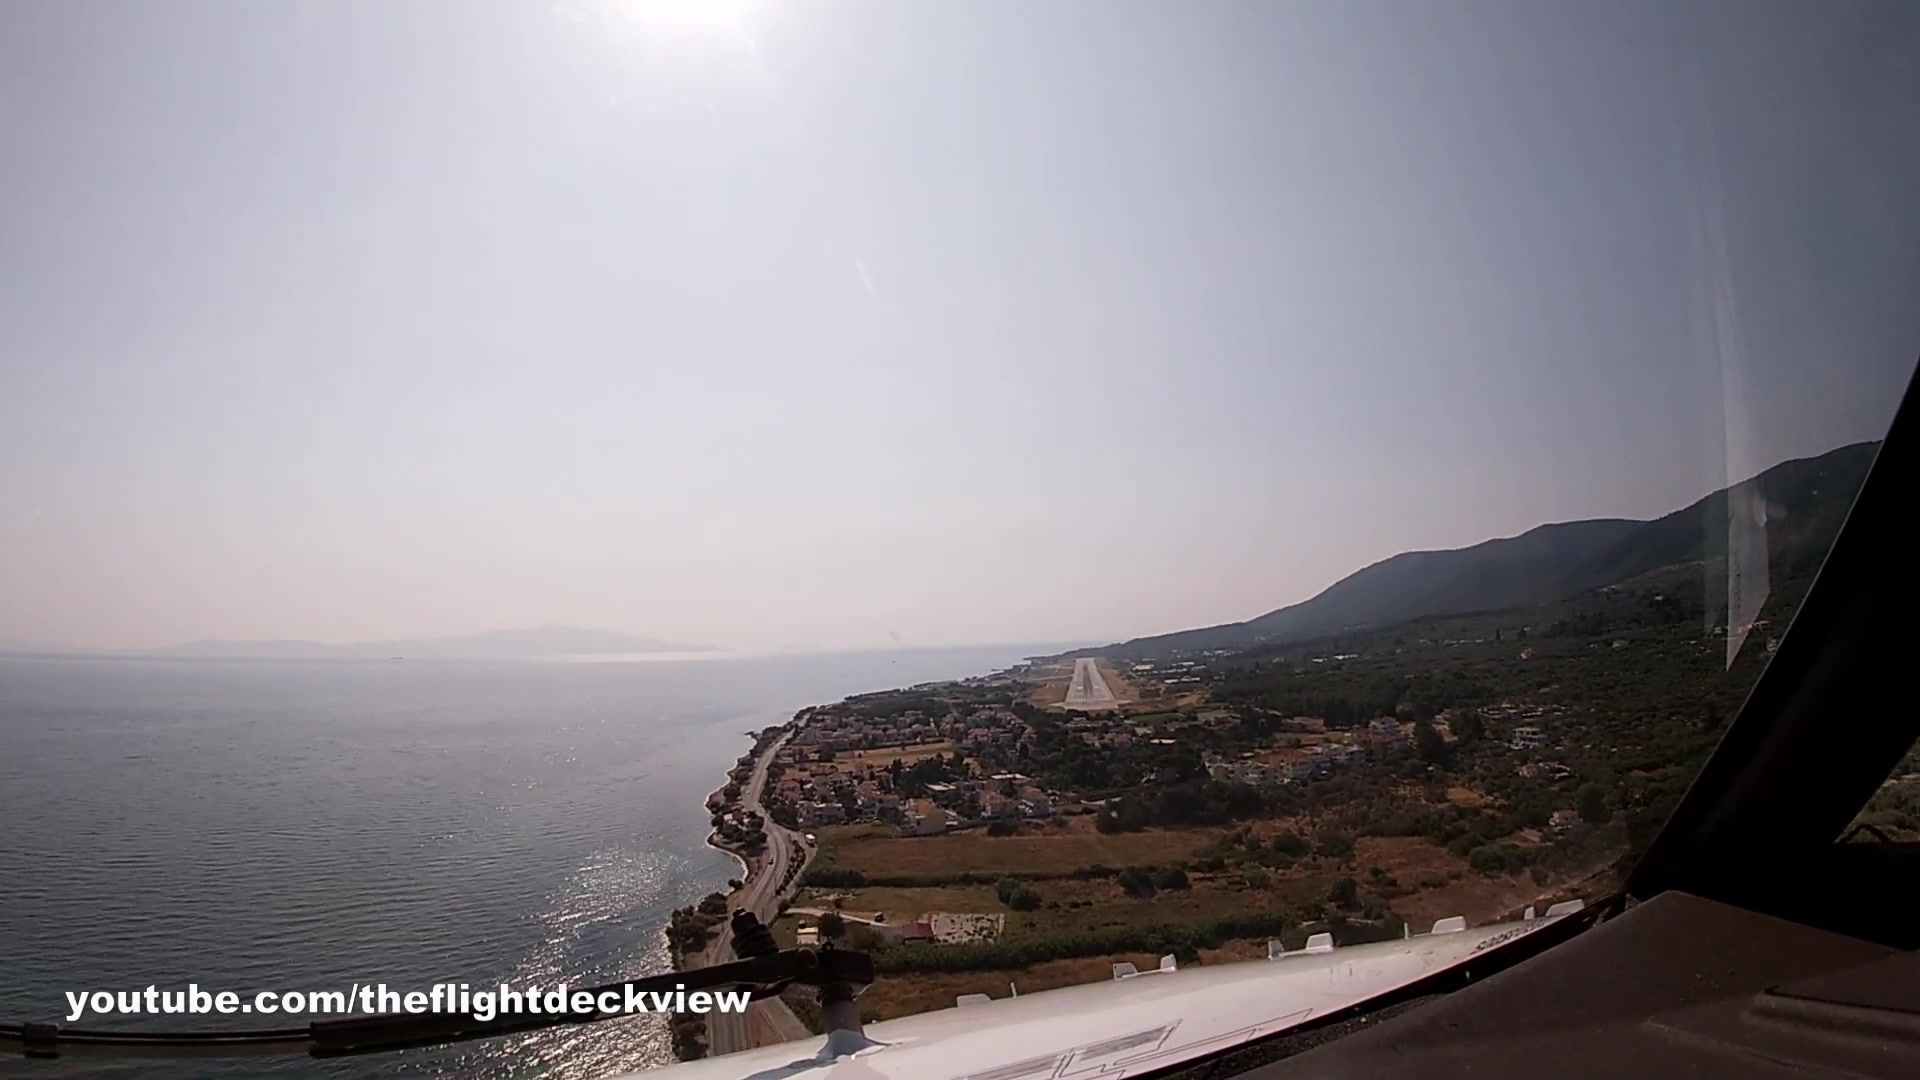runway: (1064, 659, 1116, 709)
